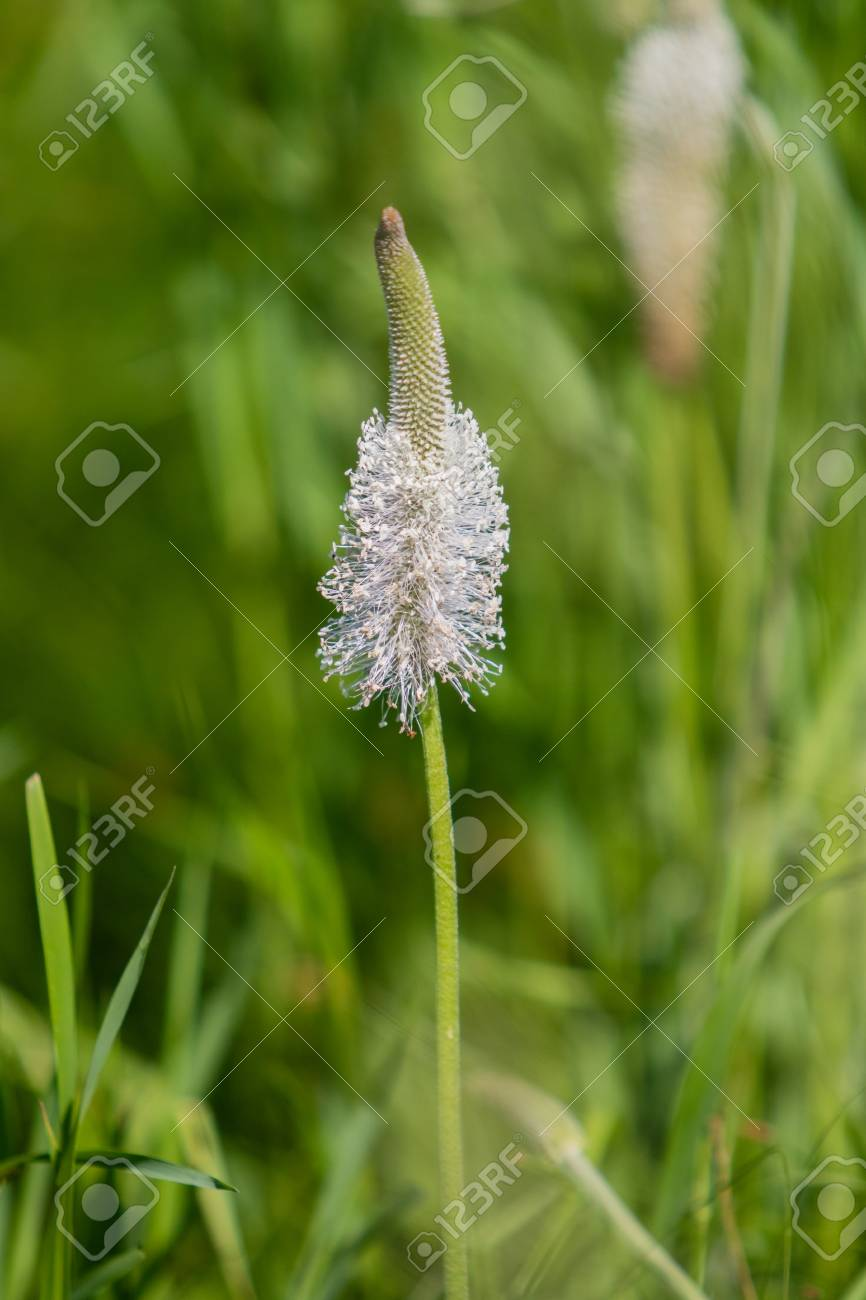buckhorn plantain: (221, 188, 559, 953)
